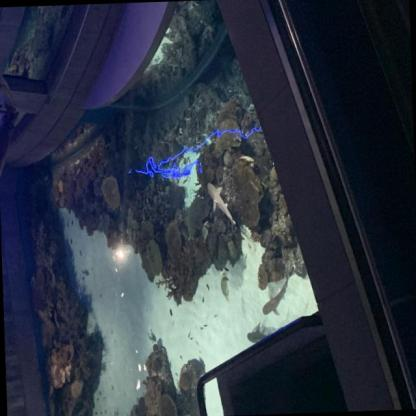fish: (219, 269, 228, 300)
shark: (205, 181, 236, 230), (261, 272, 290, 315), (246, 322, 270, 344)
